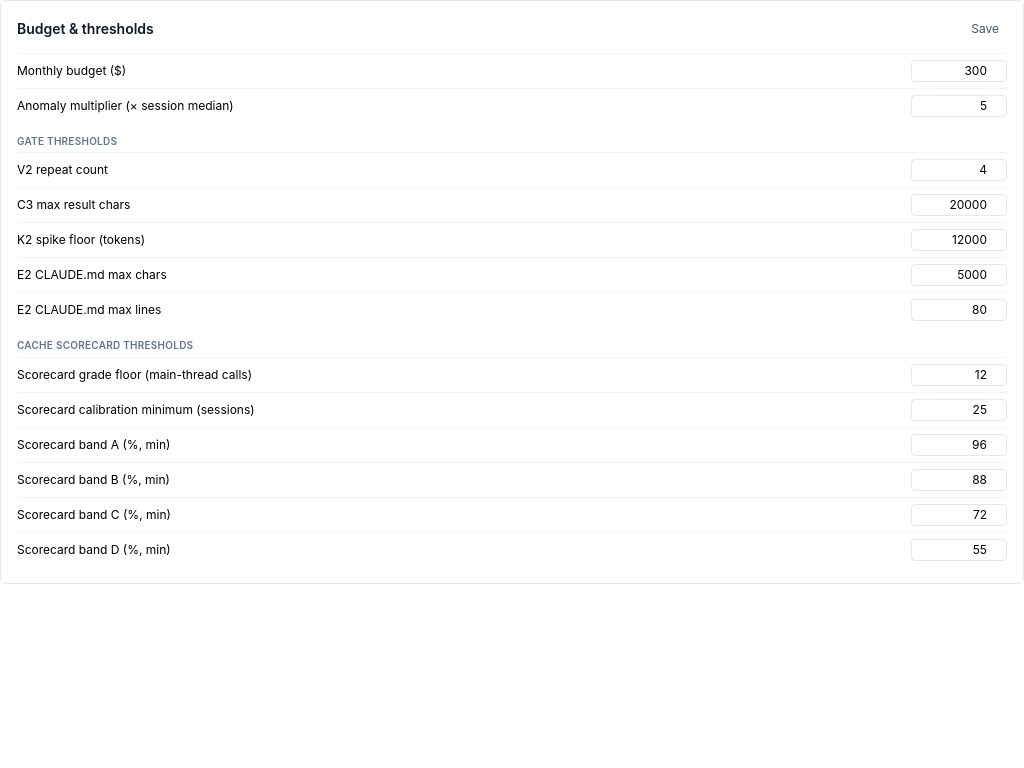
ThresholdsPanel (#124 review finding #9) › clamps a band value typed below 0 up to 0
expect the heading "Cache Scorecard thresholds" is shown: met, box [17,339,193,351]
Replace the text in the number field labelled "Scorecard band D (%, min)" with "-5" at (959, 550), box [911,539,1007,561]
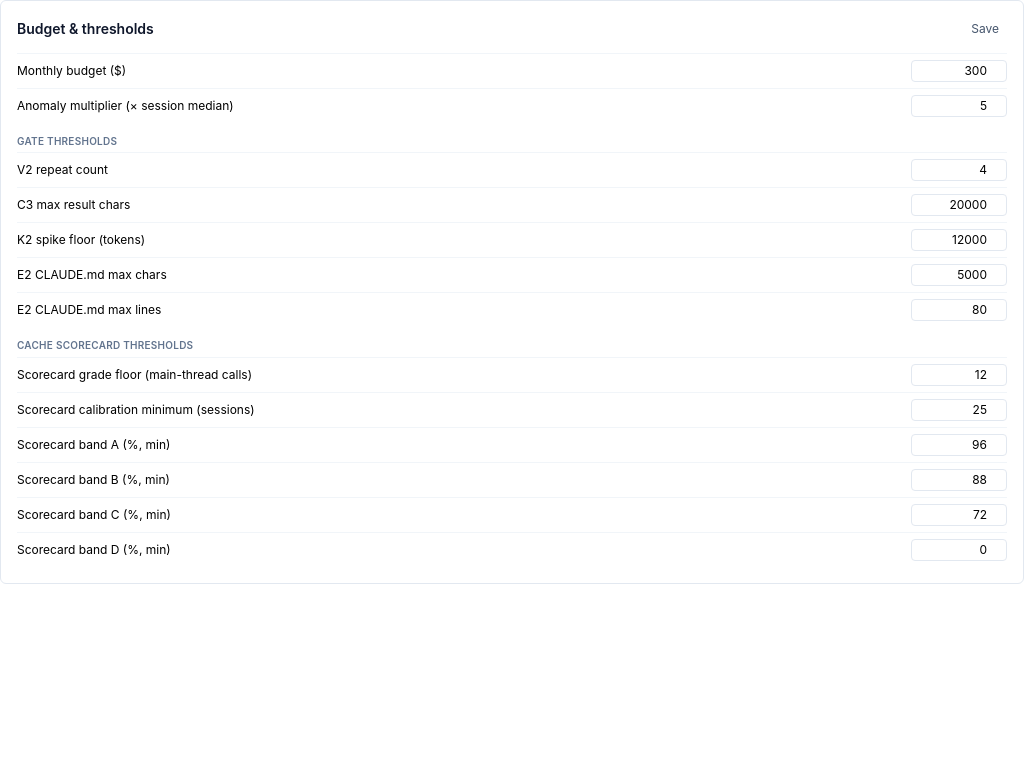
expect the number field labelled "Scorecard band D (%, min)" holds "0": met, box [911,539,1007,561]
